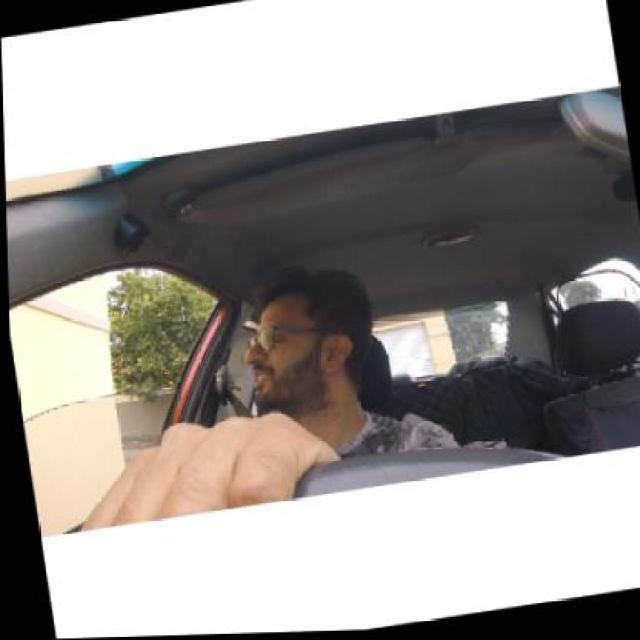LeftRight: (240, 280, 374, 411)
